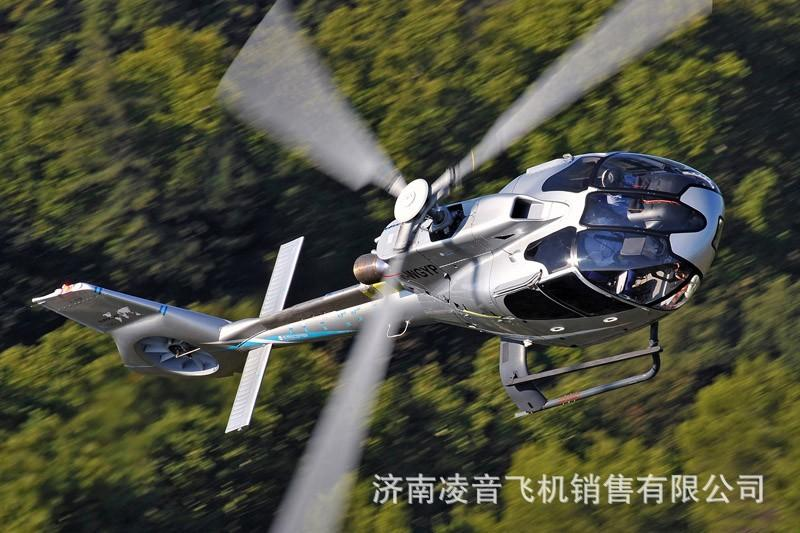airplane: (26, 1, 742, 529)
